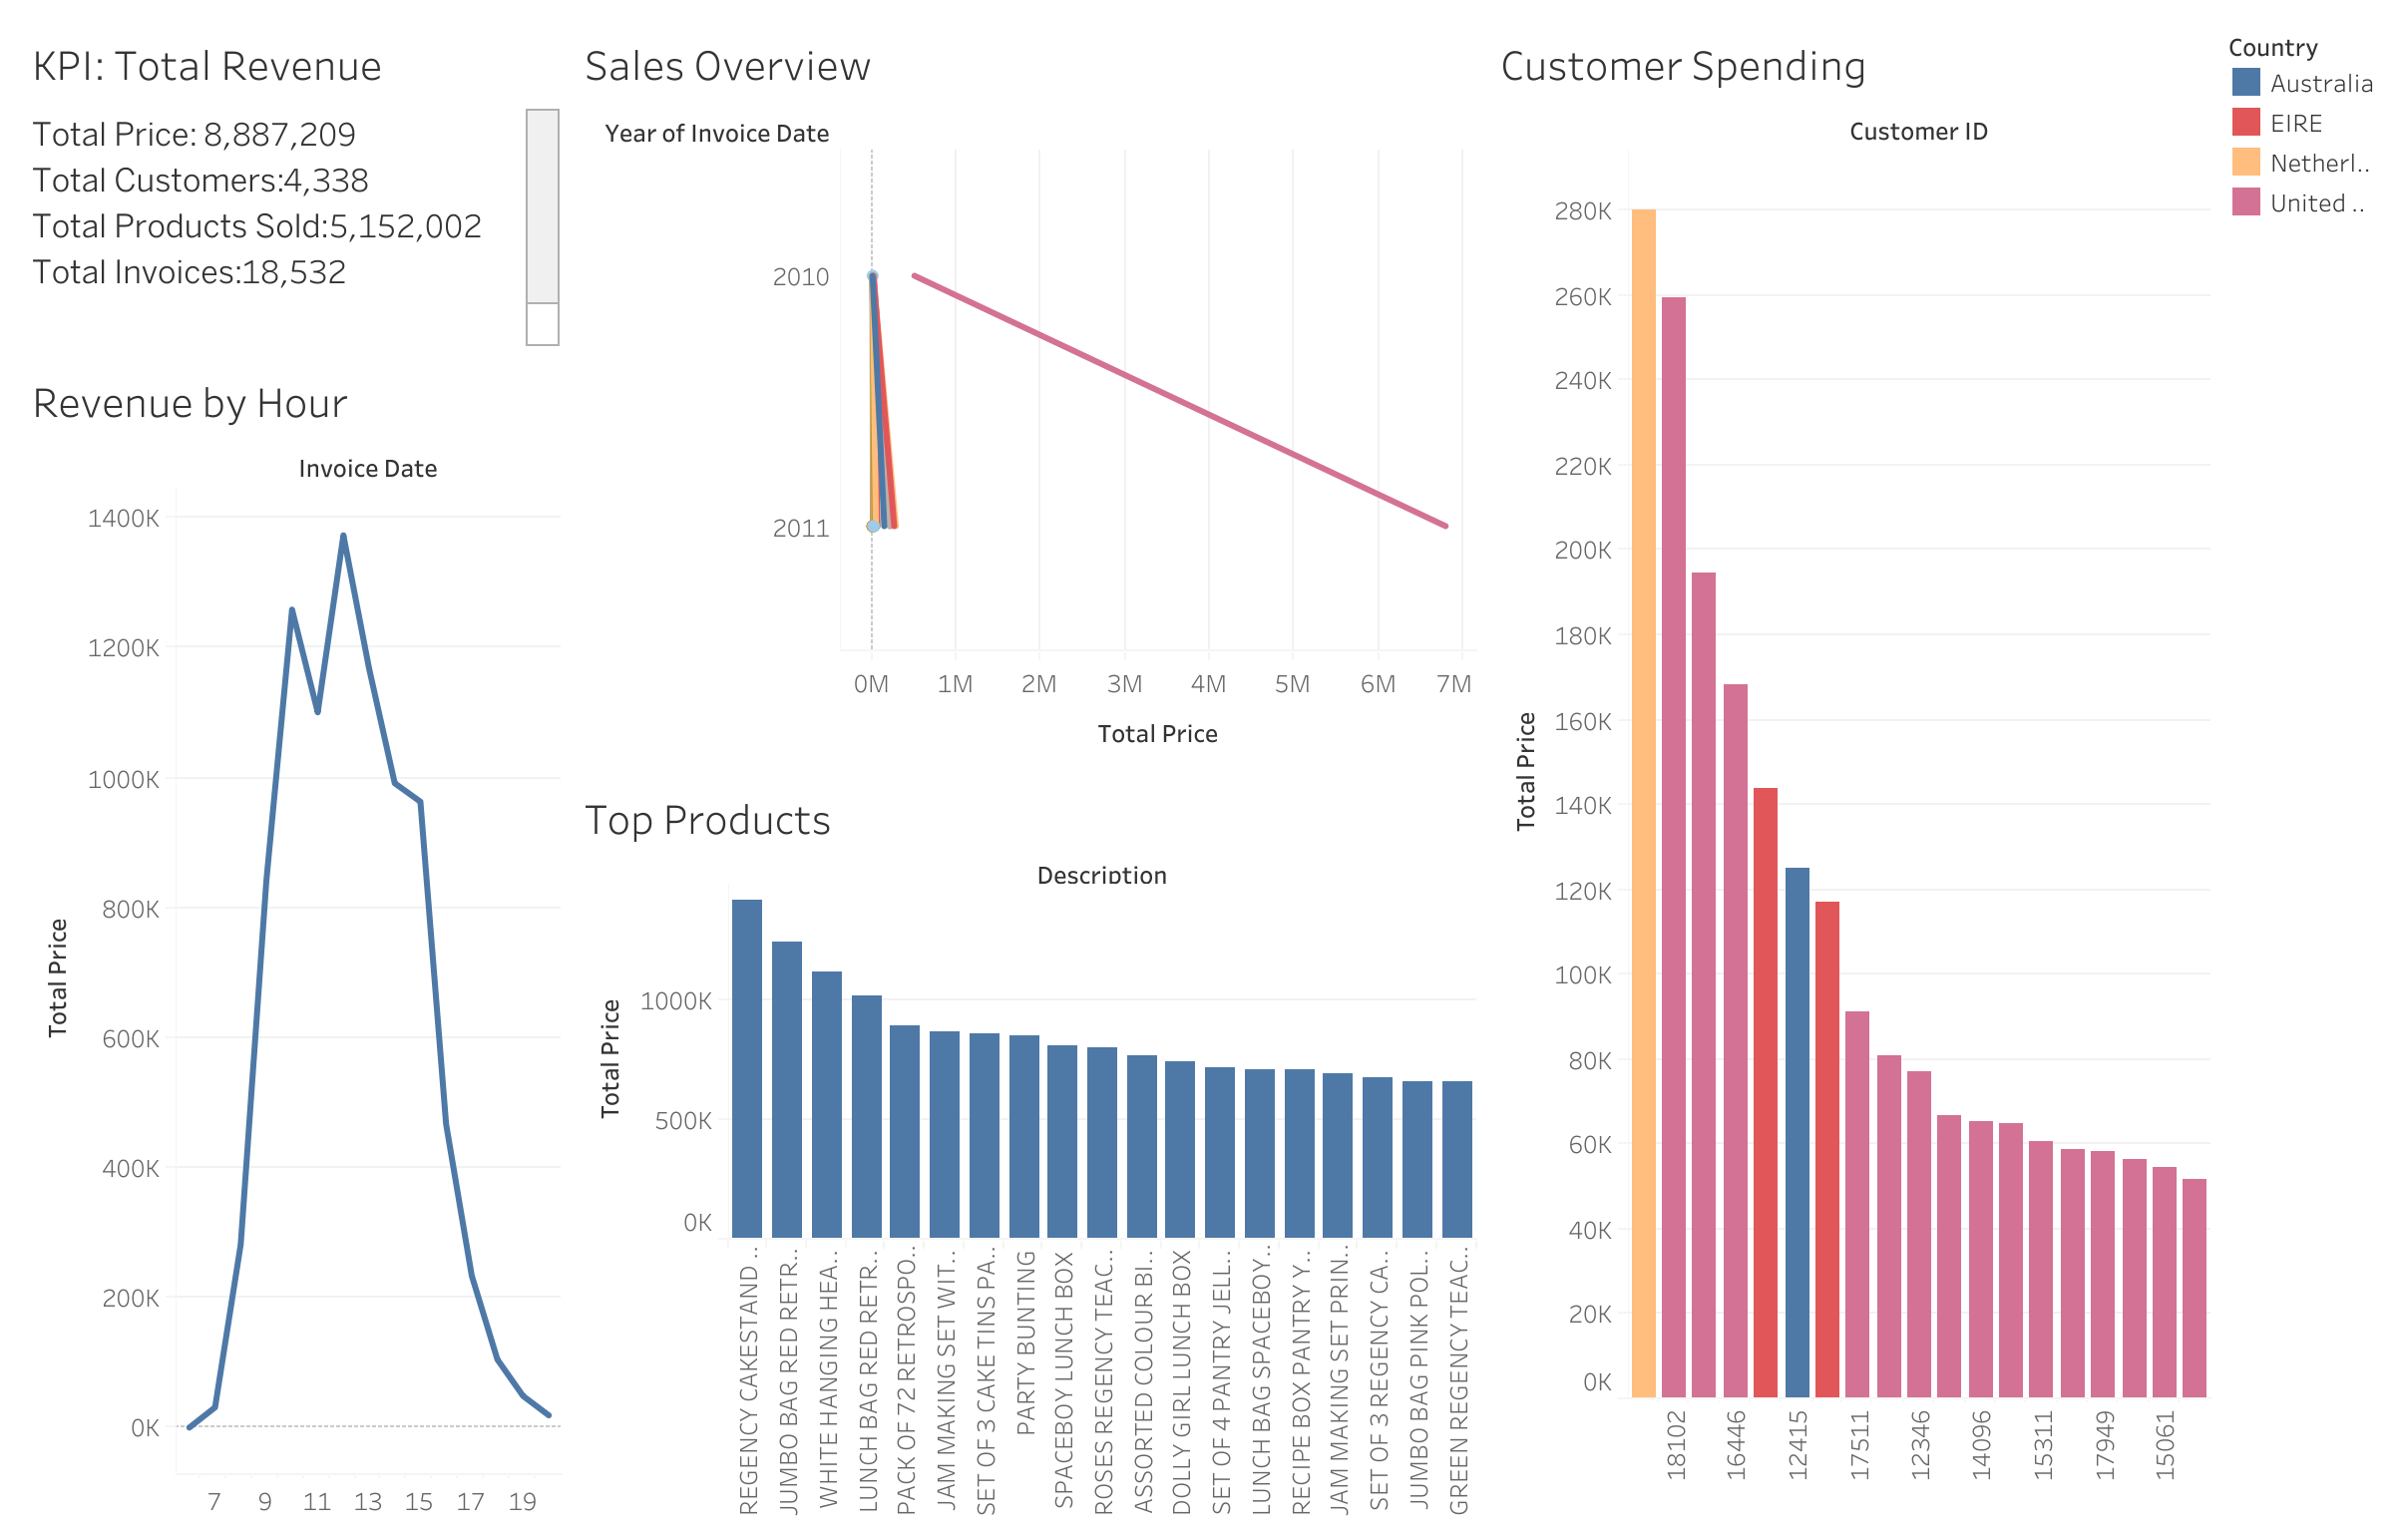

The dashboard page shown, as its layout file describes it:
{"tool":"tableau","page":{"name":"Dashboard","canvas":[1000,1000],"units":"permille","ordinal":0},"visuals":[{"type":"worksheet","title":"KPI: Total Revenue","mark":"Text","box":[5.8,11.2,232.6,217.8]},{"type":"worksheet","title":"Sales Overview","mark":"Automatic","rows":["InvoiceDate"],"cols":["TotalPrice"],"box":[238.4,11.2,385.1,488.8]},{"type":"worksheet","title":"Customer Spending","mark":"Automatic","rows":["TotalPrice"],"cols":["CustomerID"],"box":[623.5,11.2,308.9,977.7]},{"type":"legend","title":"Customer Spending","param":"[federated.0crgzyu0kh6ow21ey02sk0epwogw].[none:Country:nk]","box":[932.4,11.2,61.8,148]},{"type":"worksheet","title":"Revenue by Hour","mark":"Automatic","rows":["TotalPrice"],"cols":["InvoiceDate"],"box":[5.8,229,232.6,759.9]},{"type":"worksheet","title":"Top Products","mark":"Bar","rows":["TotalPrice"],"cols":["Description"],"box":[238.4,500,385.1,488.8]}]}

Visuals, with their boxes on the dashboard's canvas, which has no fixed pixel size, in thousandths of its width and height (x1, y1, x2, y2). These are canvas units, not pixel positions in the 2402x1540 screenshot, which may show the page scaled, cropped or inside an application window:
"KPI: Total Revenue" worksheet (Text marks): pyautogui.locateOnScreen(6, 11, 238, 229)
"Sales Overview" worksheet: pyautogui.locateOnScreen(238, 11, 624, 500)
"Customer Spending" worksheet: pyautogui.locateOnScreen(624, 11, 932, 989)
"Customer Spending" legend: pyautogui.locateOnScreen(932, 11, 994, 159)
"Revenue by Hour" worksheet: pyautogui.locateOnScreen(6, 229, 238, 989)
"Top Products" worksheet (Bar marks): pyautogui.locateOnScreen(238, 500, 624, 989)
